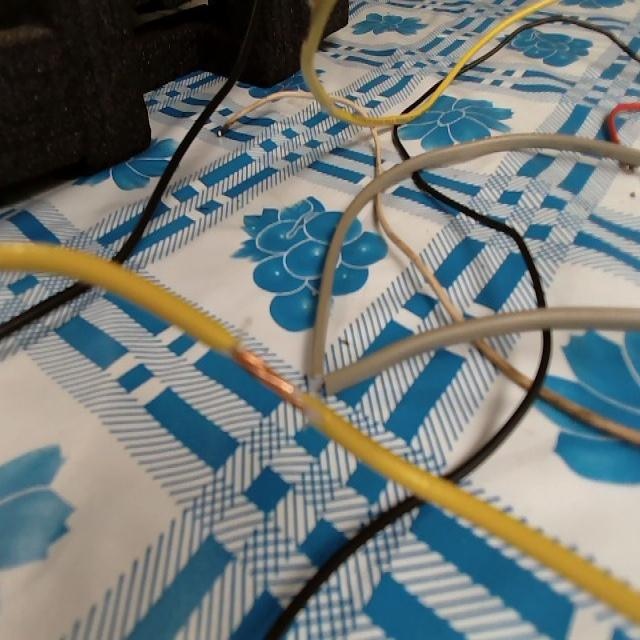-: (228, 336, 314, 420), (216, 119, 229, 140)
